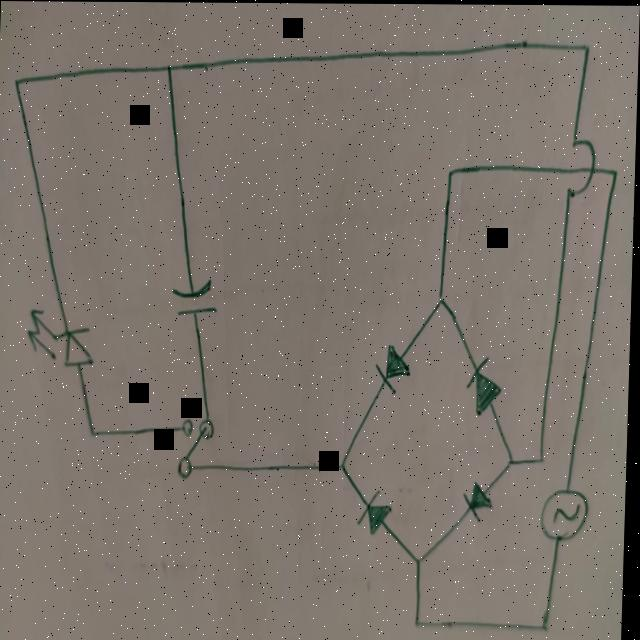capacitor: (172, 278, 220, 319)
crossover: (566, 136, 597, 200)
diode: (28, 308, 96, 374), (462, 352, 507, 418), (462, 475, 497, 531), (376, 343, 414, 393), (359, 489, 395, 536)
junction: (161, 56, 176, 78), (445, 161, 457, 182), (436, 289, 448, 310), (89, 423, 101, 443), (610, 163, 621, 183), (11, 72, 22, 92), (581, 38, 591, 58), (508, 450, 518, 470), (415, 612, 426, 630), (542, 616, 553, 633), (340, 455, 350, 473), (416, 550, 426, 568), (539, 448, 548, 466)
source: (542, 488, 592, 545)
switch: (179, 416, 217, 482)
